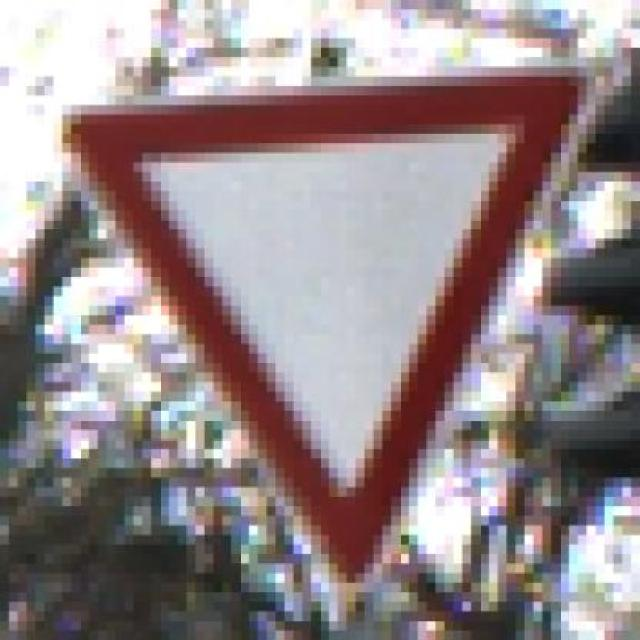Give Way: (50, 59, 593, 603)
